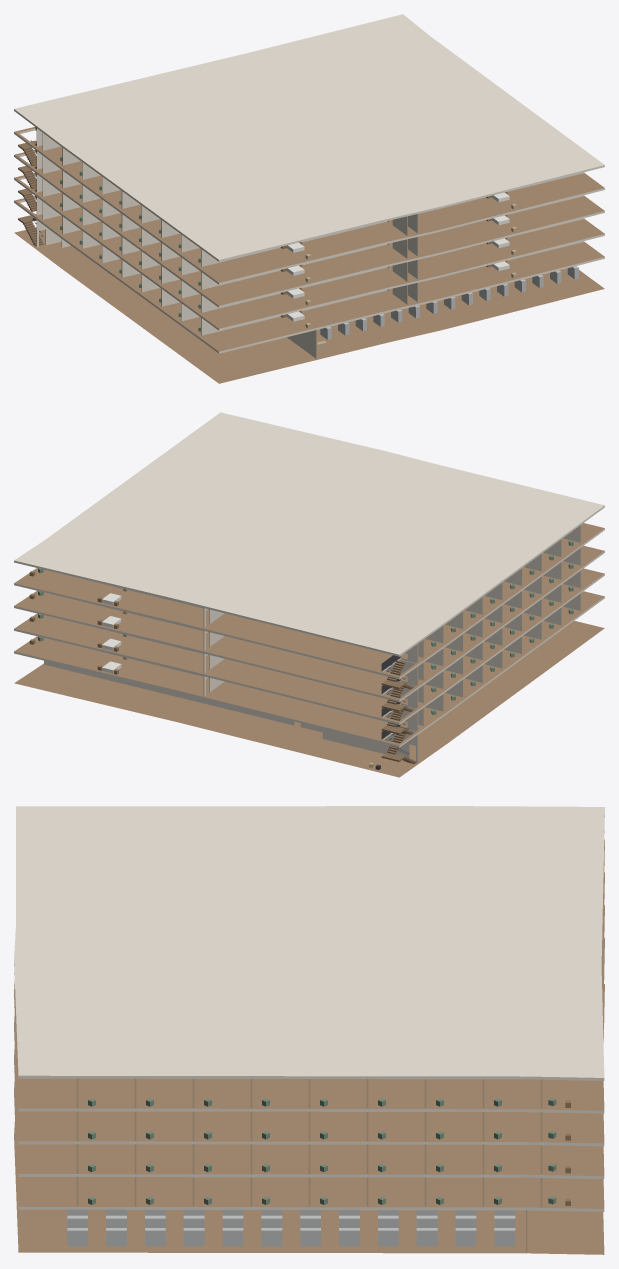
Rendered from interior.glb.
The picture shows the model from 3 angles, top to bottom: view 1: azimuth 30°, elevation 25°; view 2: azimuth 150°, elevation 25°; view 3: azimuth 270°, elevation 25°; orthographic projection. The views are drawn at different scales.
Parts seen in each view (by area): view 1: slabs, partitions, coarse-s0, stair, coarse-s3, coarse-s4, coarse-s1, coarse-s2; view 2: slabs, partitions, stair, coarse-s4, coarse-s3, coarse-s2, coarse-s1; view 3: slabs, coarse-s0, partitions, coarse-s4.
Boxes of the visible parts, box(x1,y1,x2,y2) form: slabs: box(14, 14, 604, 383); partitions: box(36, 128, 584, 358); coarse-s0: box(317, 266, 578, 351); stair: box(18, 127, 43, 246); coarse-s3: box(60, 179, 516, 285); coarse-s4: box(60, 156, 516, 262); coarse-s1: box(60, 224, 516, 331); coarse-s2: box(60, 202, 516, 308); slabs: box(14, 412, 604, 777); partitions: box(44, 525, 581, 761); stair: box(381, 655, 416, 763); coarse-s4: box(29, 540, 573, 646); coarse-s3: box(29, 563, 573, 669); coarse-s2: box(29, 586, 573, 692); coarse-s1: box(29, 609, 573, 714); slabs: box(14, 806, 604, 1254); coarse-s0: box(67, 1209, 515, 1246); partitions: box(76, 1078, 542, 1252); coarse-s4: box(88, 1098, 570, 1107).
Size of the model in its own units: 53 by 16.1 by 48.69.
